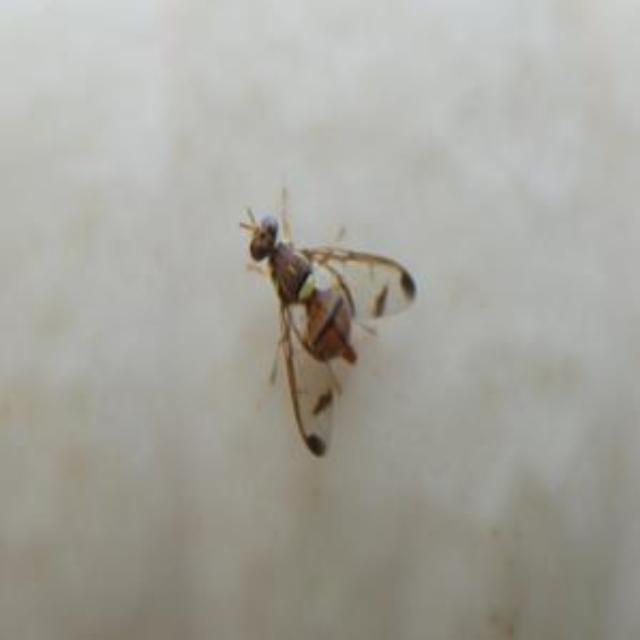melon fly: (170, 140, 420, 472)
